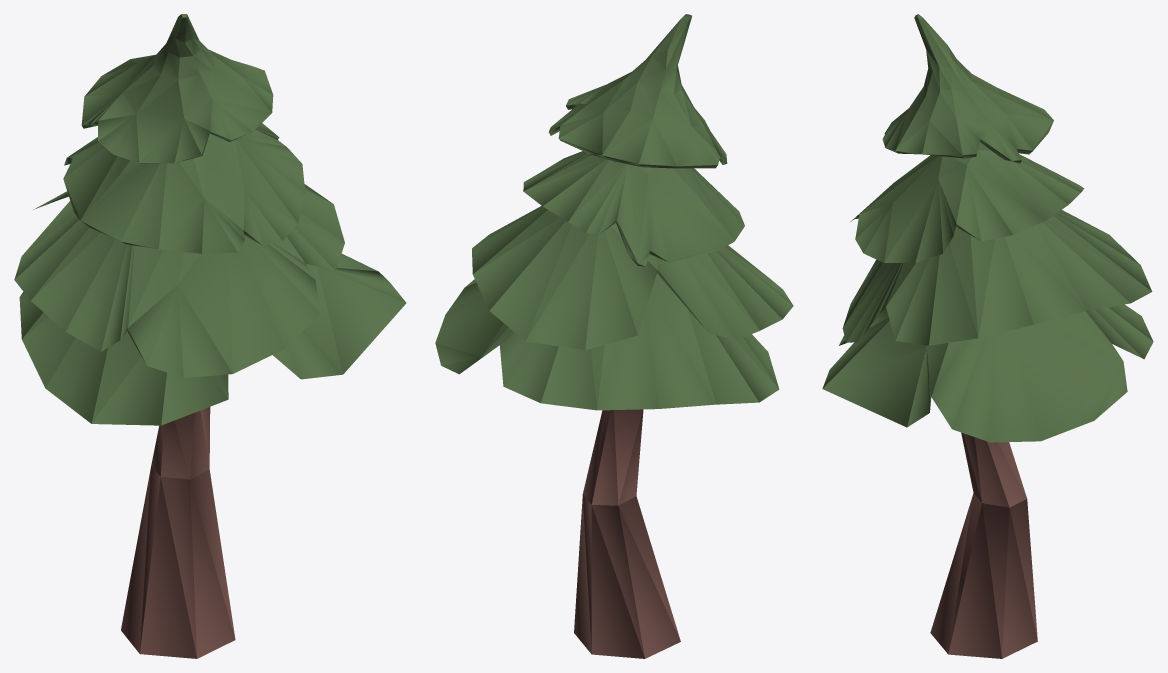
Rendered from PineTree_5_far.glb.
3 renders of one model, left to right at view 1: azimuth 30°, elevation 25°; view 2: azimuth 150°, elevation 25°; view 3: azimuth 270°, elevation 25°, orthographic. The views are drawn at different scales.
Visible parts, largest first — view 1: PineTree_5_Far; view 2: PineTree_5_Far; view 3: PineTree_5_Far.
Boxes of the visible parts, x1,y1,x2,y2 form: PineTree_5_Far: (14,14,406,658); PineTree_5_Far: (435,14,793,658); PineTree_5_Far: (822,14,1153,658).
Size of the model in its own units: 1.46 by 2.7 by 1.33.
